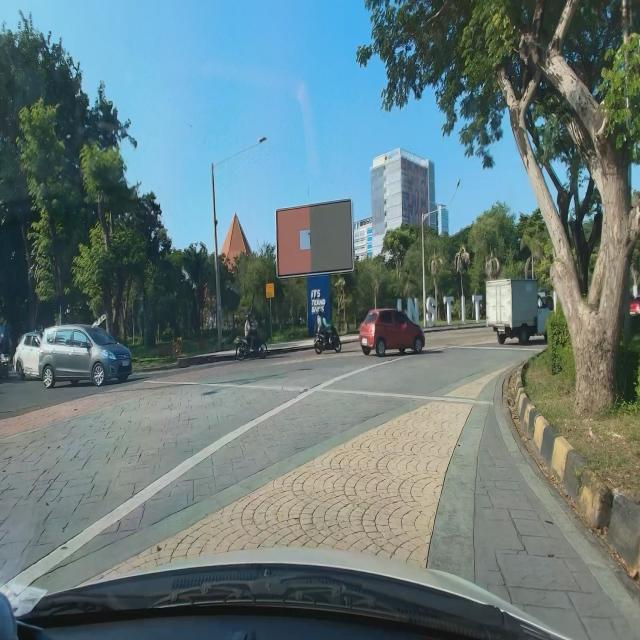license-plate: (498, 327, 506, 332)
truck: (485, 273, 554, 343)
